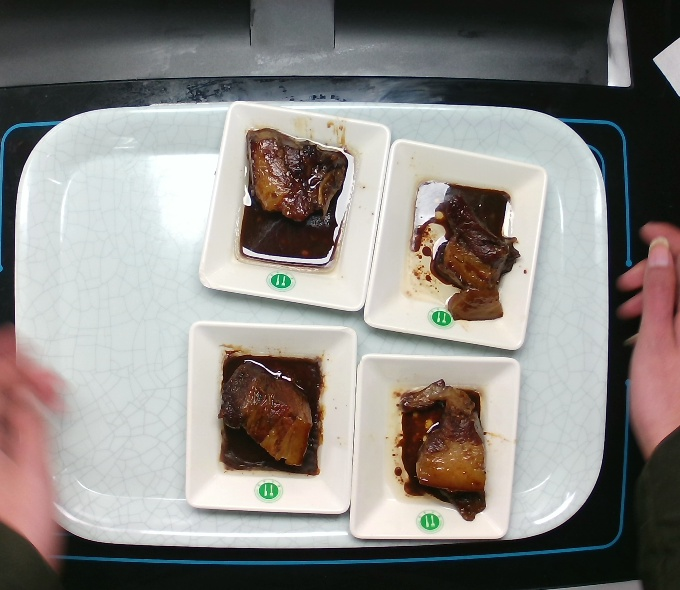wcq-DaKuaiRou: (397, 168, 532, 335), (232, 116, 351, 280), (380, 370, 494, 530), (211, 339, 327, 494)
